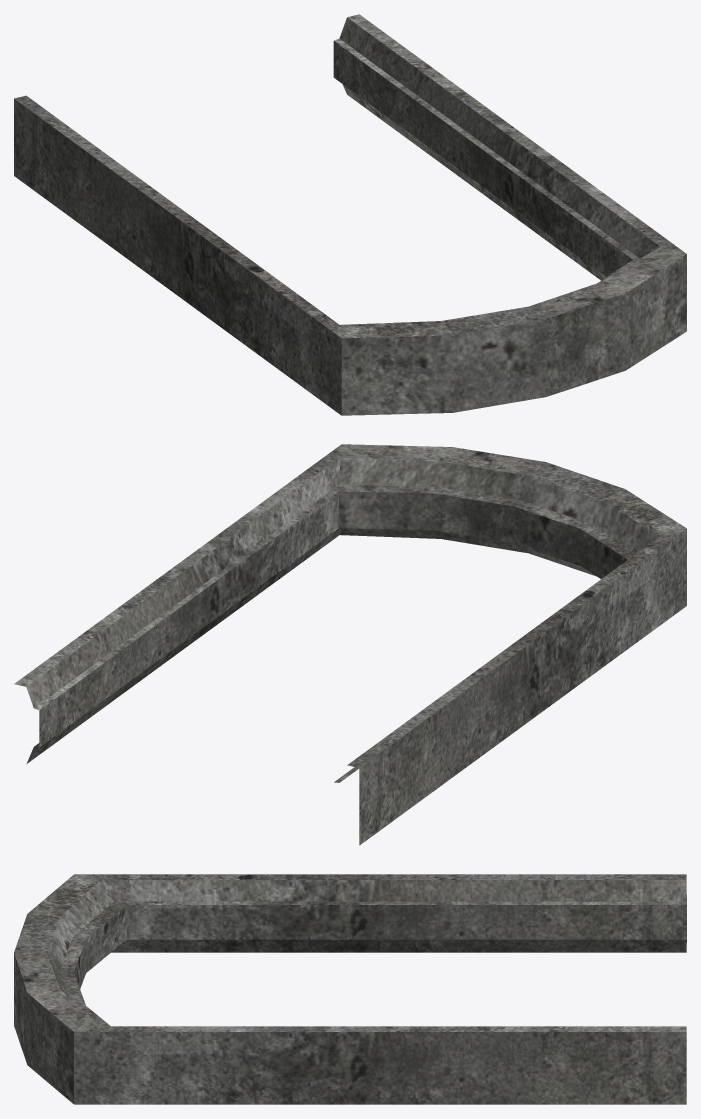
Rendered from moscow_doorframe1_obj.glb.
3 views of the same model, one above another, from view 1: azimuth 30°, elevation 25°; view 2: azimuth 150°, elevation 25°; view 3: azimuth 270°, elevation 25° (orthographic). The views are drawn at different scales.
Bounding box in the file's own units: 56 × 12.12 × 101.
Materials: 1 (1 with a texture image).
